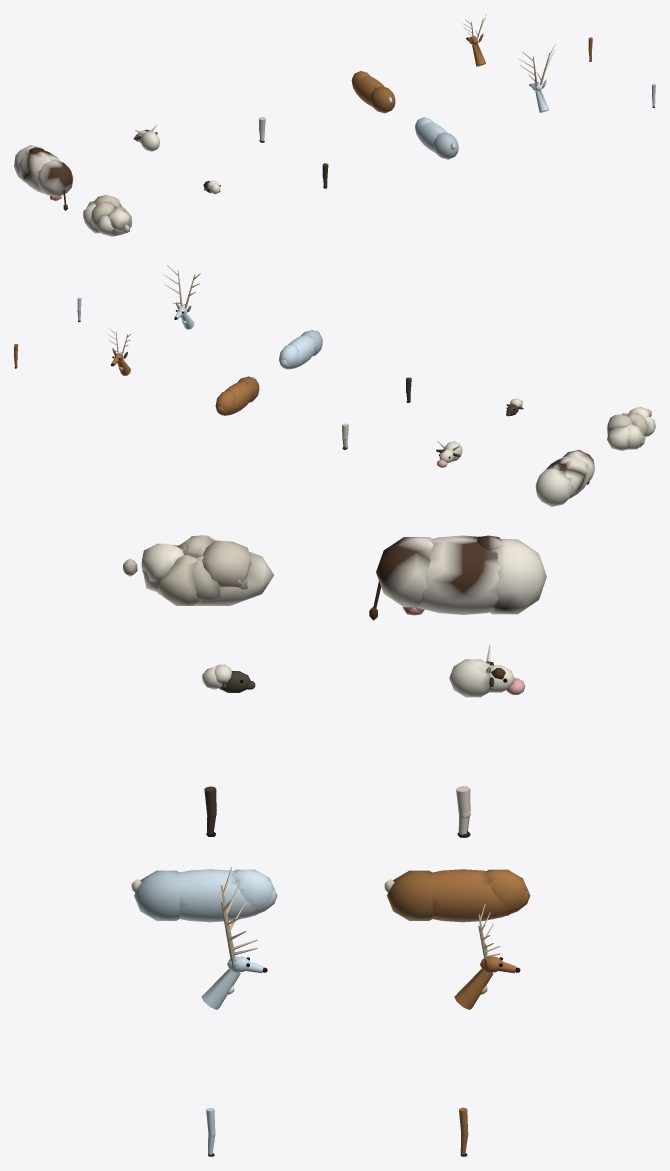
File: wildlife.glb
The picture shows the model from 3 angles, top to bottom: view 1: azimuth 30°, elevation 25°; view 2: azimuth 150°, elevation 25°; view 3: azimuth 270°, elevation 25°; orthographic projection. The views are drawn at different scales.
Parts seen in each view (by area): view 1: cow_body, sheep_body, deer_body, stag_body, stag_head, cow_head, deer_head; view 2: cow_body, sheep_body, deer_body, stag_body, stag_head, cow_head, deer_head; view 3: cow_body, sheep_body, deer_body, stag_body, cow_head, stag_head, deer_head, sheep_head.
Part boxes in pixels (x1=…): cow_body: x1=14, y1=145, x2=73, y2=210; sheep_body: x1=83, y1=195, x2=132, y2=236; deer_body: x1=351, y1=71, x2=395, y2=113; stag_body: x1=415, y1=117, x2=458, y2=159; stag_head: x1=519, y1=44, x2=555, y2=112; cow_head: x1=133, y1=124, x2=159, y2=151; deer_head: x1=463, y1=14, x2=486, y2=66; cow_body: x1=535, y1=450, x2=594, y2=506; sheep_body: x1=607, y1=406, x2=655, y2=450; deer_body: x1=215, y1=376, x2=259, y2=415; stag_body: x1=279, y1=330, x2=322, y2=369; stag_head: x1=163, y1=265, x2=200, y2=329; cow_head: x1=436, y1=441, x2=462, y2=467; deer_head: x1=107, y1=328, x2=130, y2=375; cow_body: x1=369, y1=535, x2=546, y2=620; sheep_body: x1=123, y1=535, x2=274, y2=605; deer_body: x1=384, y1=869, x2=530, y2=922; stag_body: x1=131, y1=869, x2=277, y2=922; cow_head: x1=449, y1=645, x2=525, y2=697; stag_head: x1=201, y1=867, x2=267, y2=1009; deer_head: x1=454, y1=904, x2=520, y2=1009; sheep_head: x1=202, y1=664, x2=255, y2=692.
Size of the model in its own units: 15.53 by 2.2 by 5.03.
